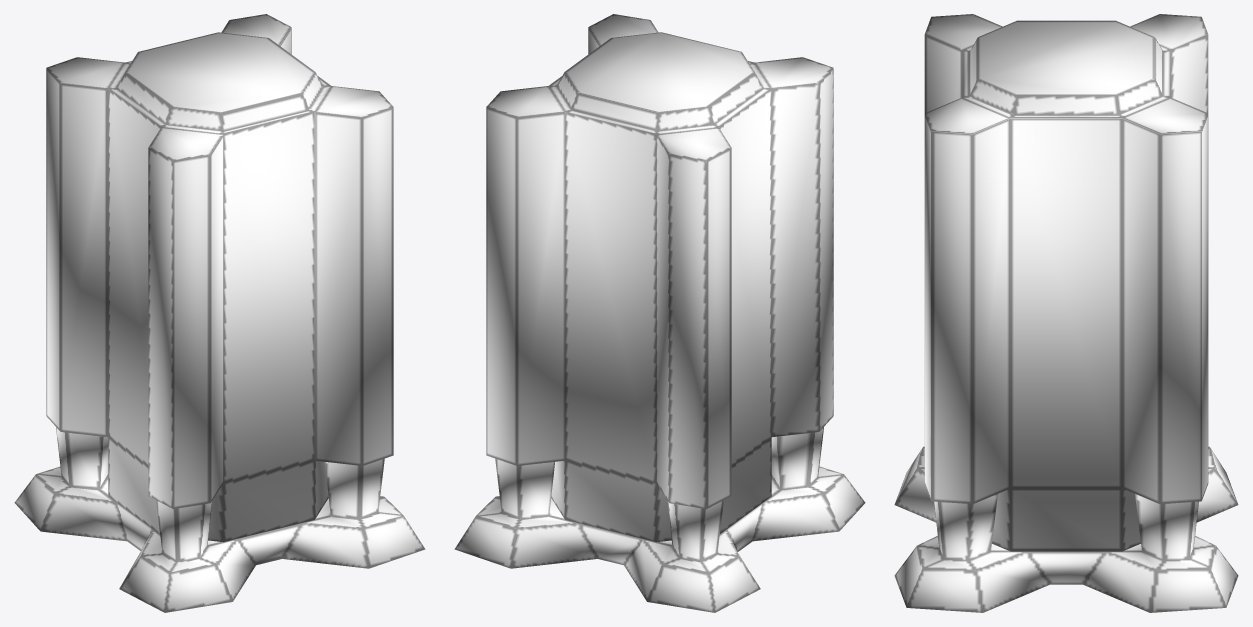
Rendered from skyscraper04.obj.
3 renders of one model, left to right at view 1: azimuth 30°, elevation 25°; view 2: azimuth 150°, elevation 25°; view 3: azimuth 270°, elevation 25°, orthographic. The views are drawn at different scales.
Visible parts, largest first — view 1: cube3_copy19; view 2: cube3_copy19; view 3: cube3_copy19.
Boxes of the visible parts, <box> form: cube3_copy19: <box>14,14,425,612</box>; cube3_copy19: <box>454,14,865,612</box>; cube3_copy19: <box>894,14,1238,612</box>.
Bounding box in the file's own units: 1.27 × 1.96 × 1.27.
Materials: 1 (1 with a texture image).
